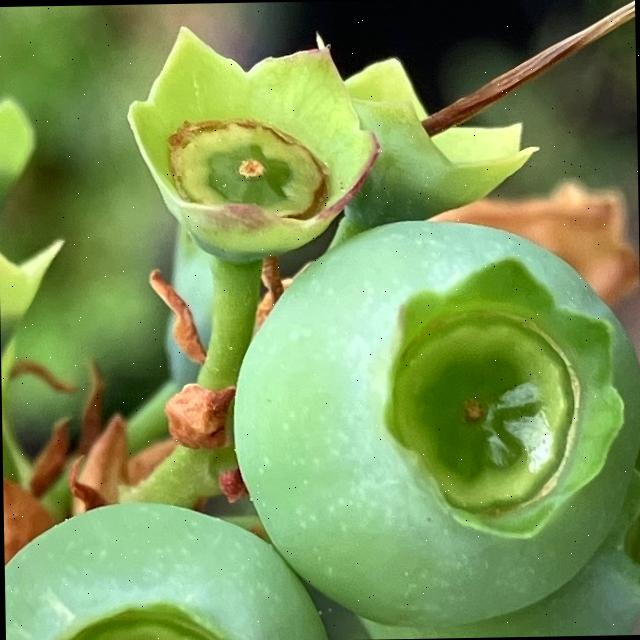Blueberries: (225, 208, 640, 633), (3, 494, 331, 640)
